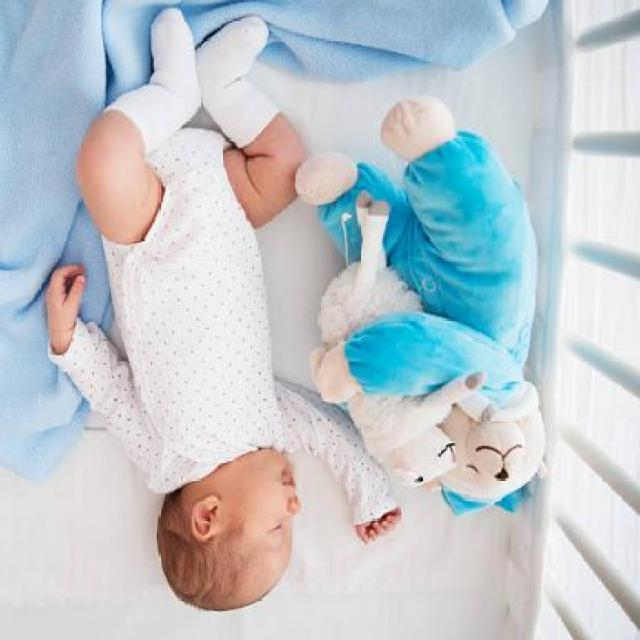child: (46, 6, 403, 612)
